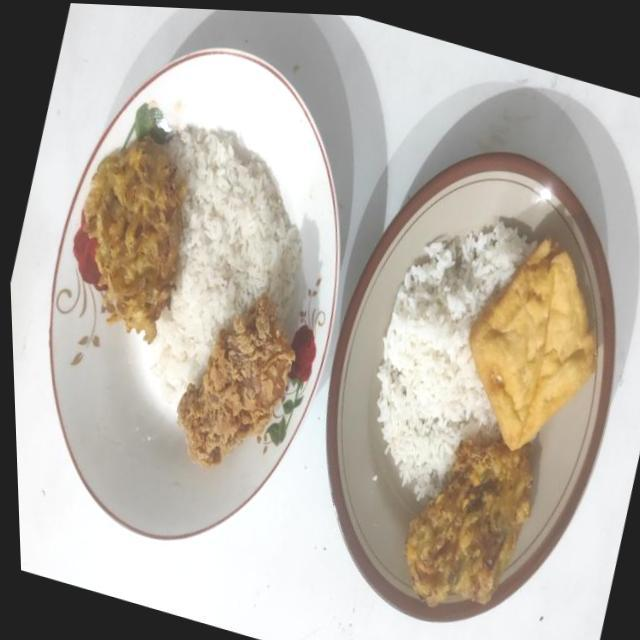nasi_putih: (377, 220, 534, 500), (152, 125, 301, 402)
tahu_goreng: (469, 240, 597, 450)
